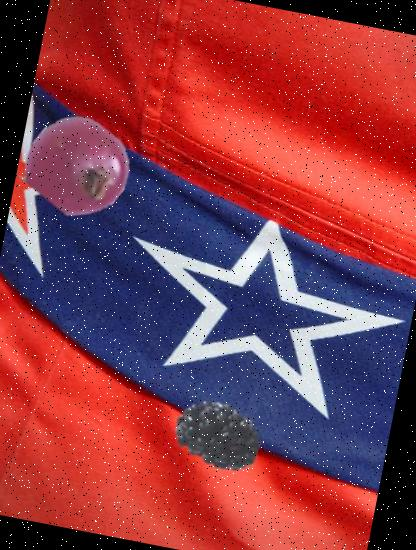Mulberry: (166, 382, 268, 485)
Redcurrant: (19, 106, 137, 224)
